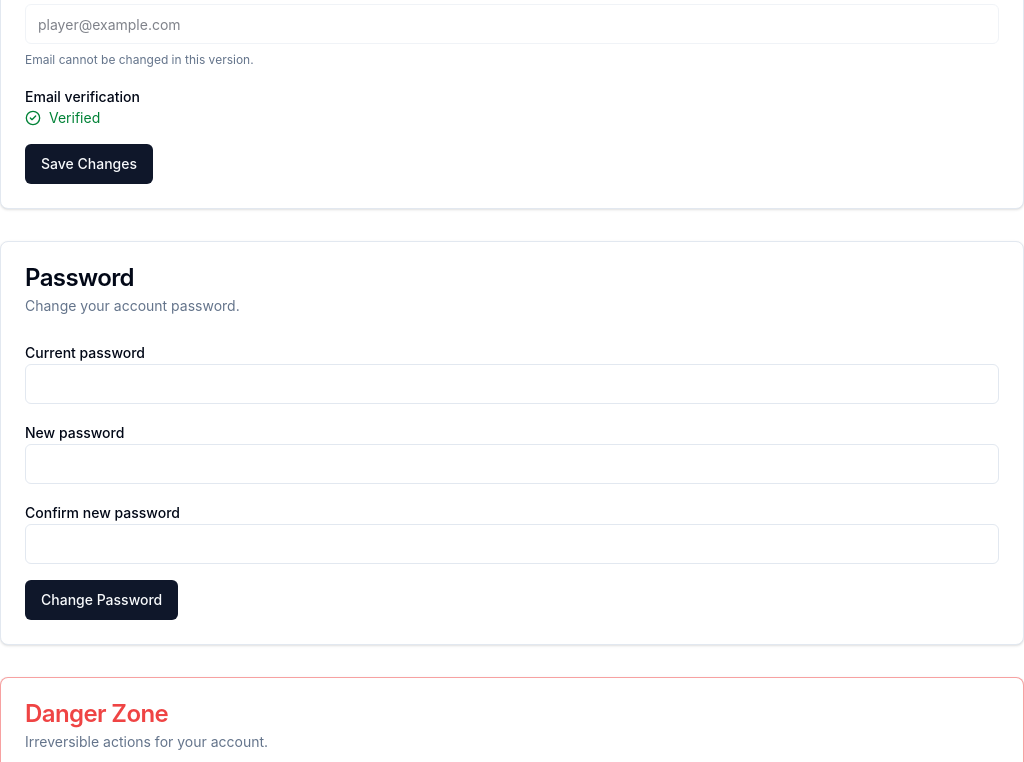
it: ProfilePage › shows mismatch error when confirm password differs
(page scrolled)
Type "OldPassword1" into the password field with id "current-password".
click(512, 384); type("OldPassword1")  # box left=25, top=364, right=999, bottom=404
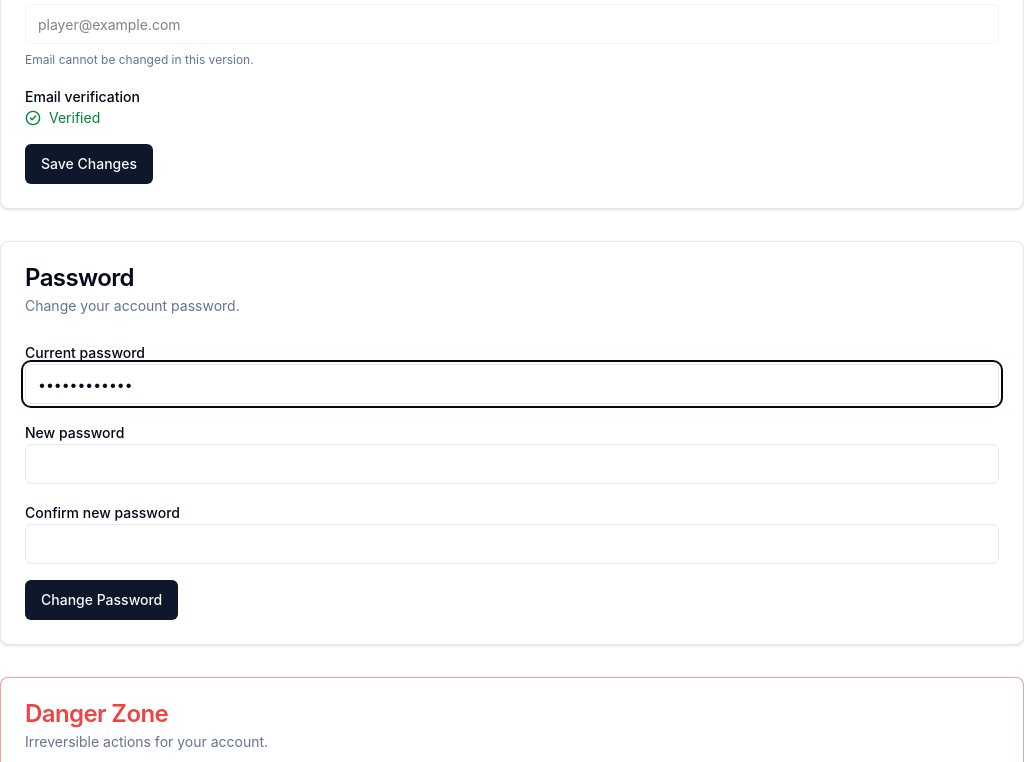
Type "NewPassword1" into the password field with id "new-password".
click(512, 464); type("NewPassword1")  # box left=25, top=444, right=999, bottom=484
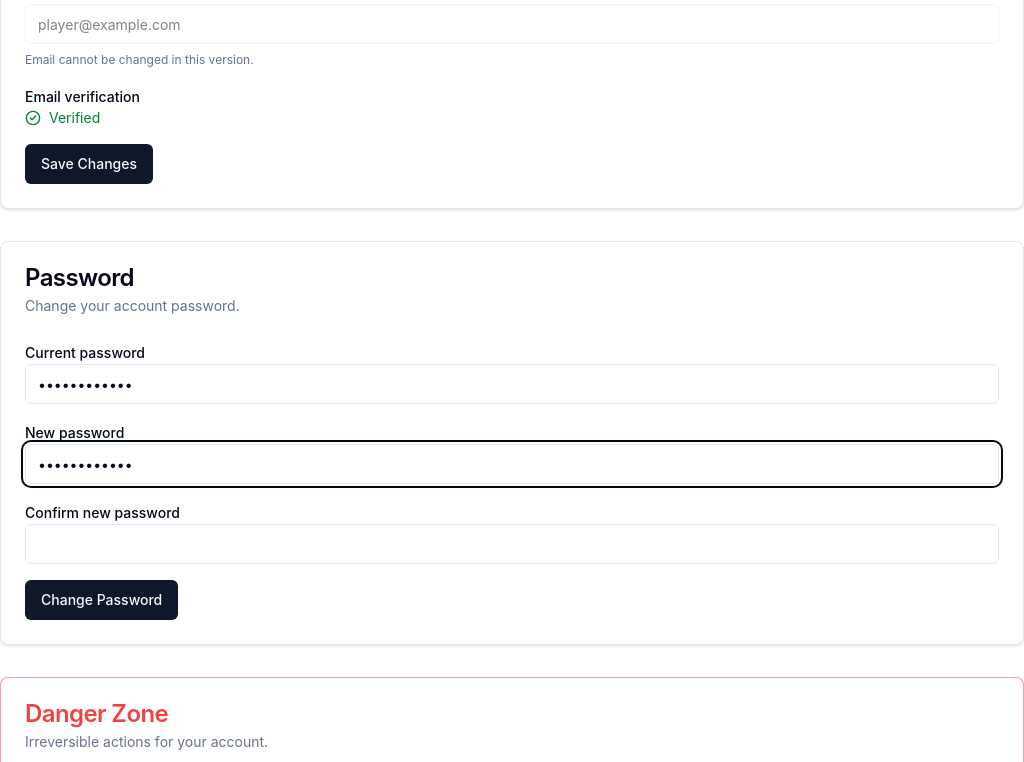
Type "DifferentPass" into the password field with id "confirm-new-password".
click(512, 544); type("DifferentPass")  # box left=25, top=524, right=999, bottom=564
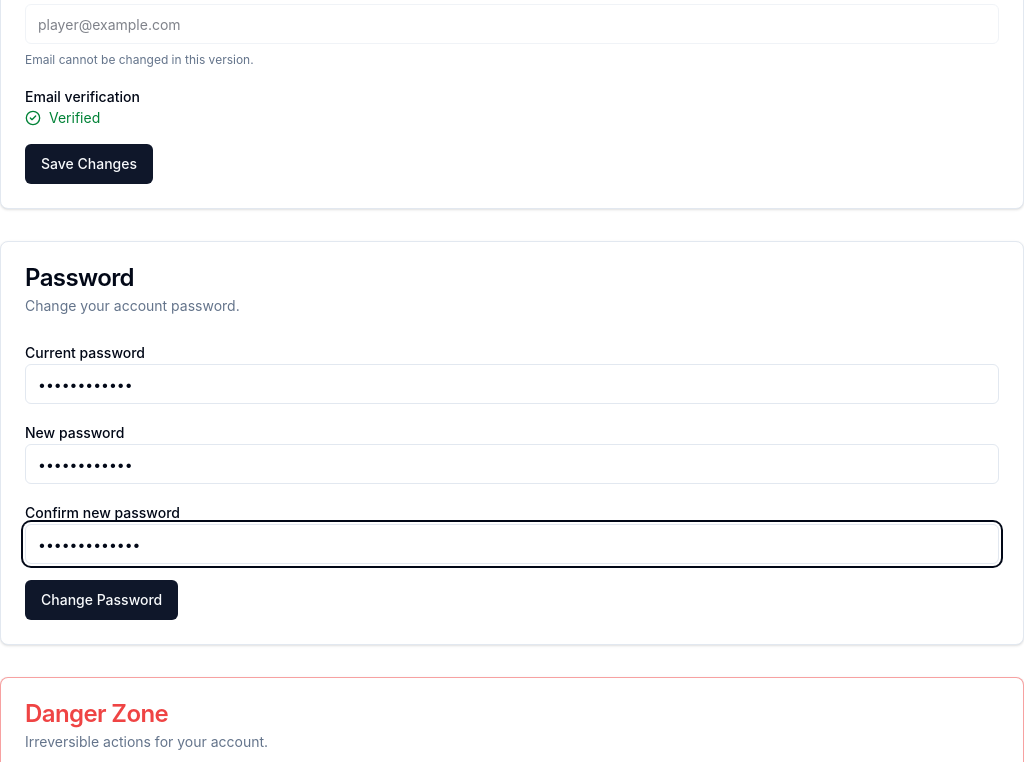
Click the button "Change Password".
click(102, 600)  # box left=25, top=580, right=178, bottom=620
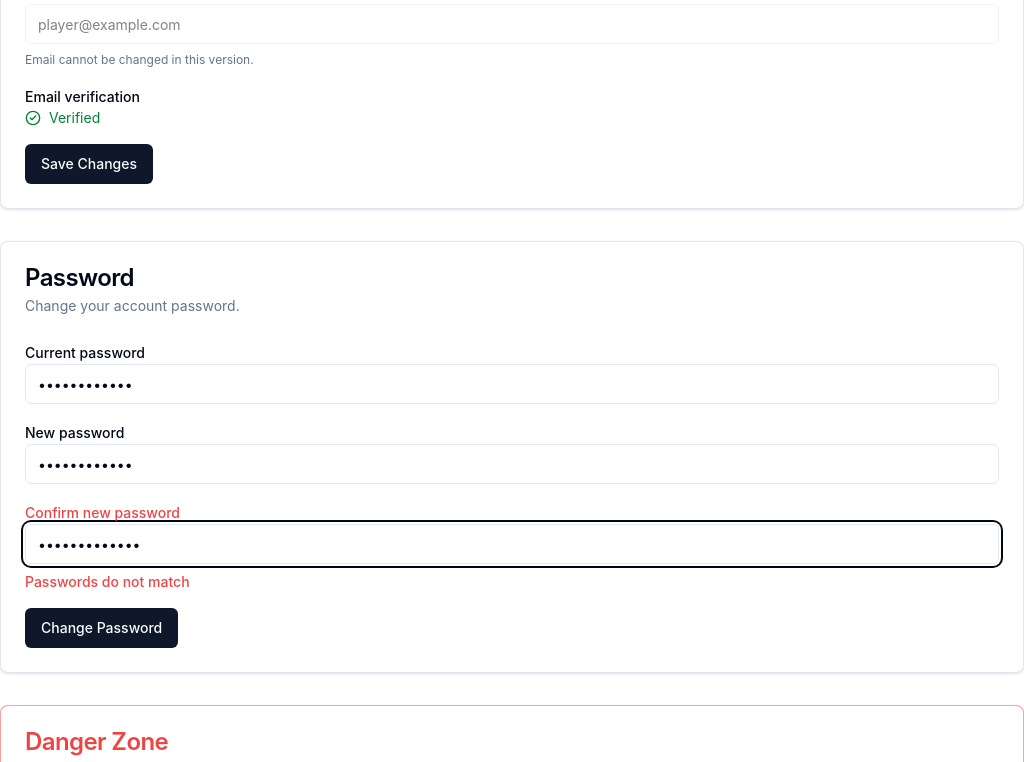
Now the text "Passwords do not match" is shown, box left=25, top=573, right=190, bottom=590
